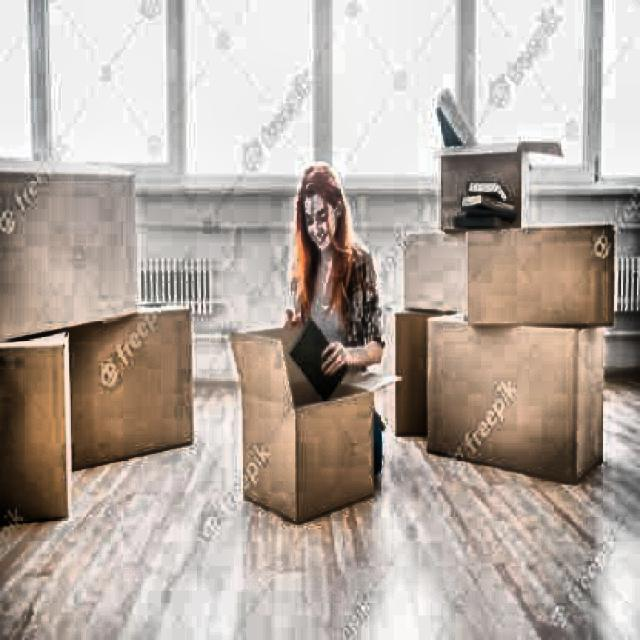Cardbox: (0, 139, 207, 530), (391, 148, 623, 488)
